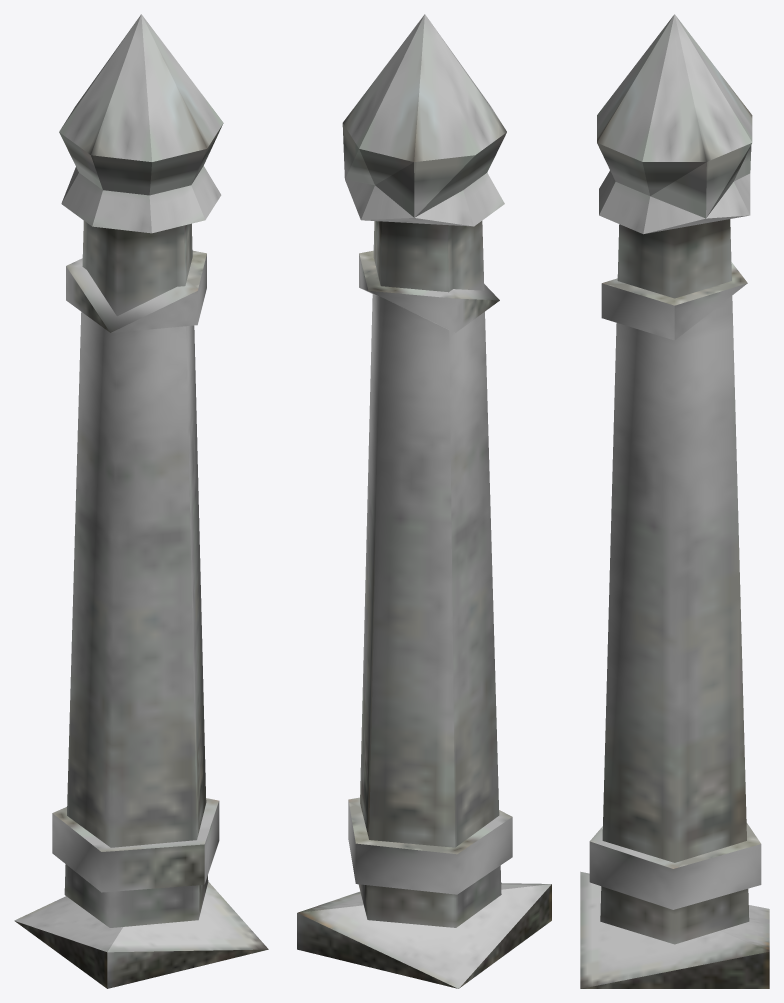
Rendered from general_obj_stonepillar_01_lod_01.fbx.
The picture shows the model from 3 angles, left to right: view 1: azimuth 30°, elevation 25°; view 2: azimuth 150°, elevation 25°; view 3: azimuth 270°, elevation 25°; orthographic projection.
Parts seen in each view (by area): view 1: Object12; view 2: Object12; view 3: Object12.
Part boxes in pixels (bbox=[...]): Object12: bbox=[14, 14, 268, 988]; Object12: bbox=[297, 14, 551, 988]; Object12: bbox=[580, 14, 769, 988].
Bounding box in the file's own units: 0.9043 × 4.93 × 0.9043.
